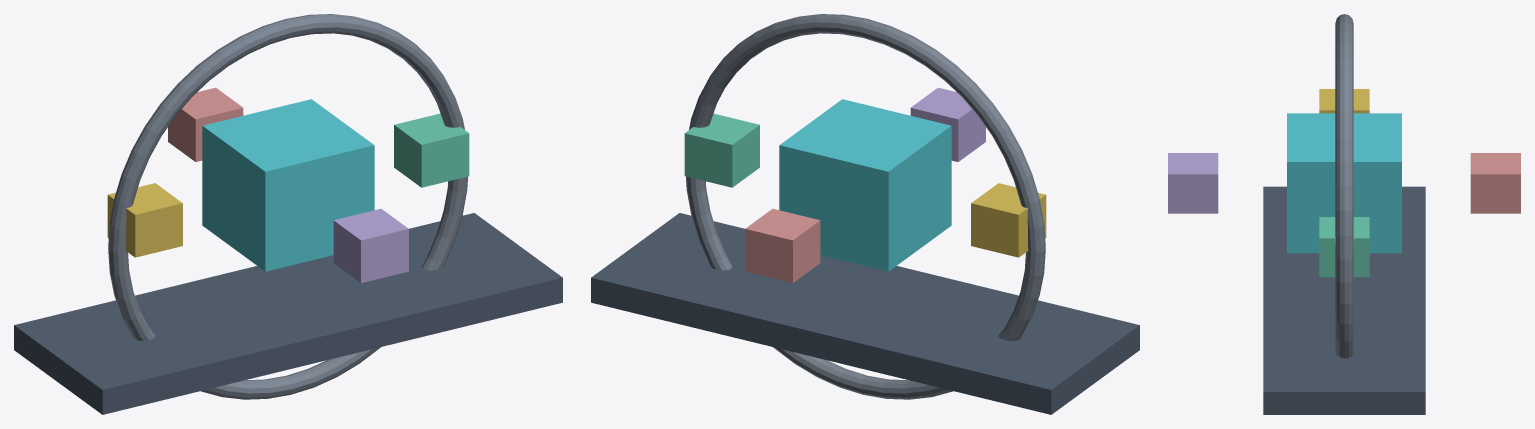
Rendered from BuclesIteracion.glb.
3 renders of one model, left to right at view 1: azimuth 30°, elevation 25°; view 2: azimuth 150°, elevation 25°; view 3: azimuth 270°, elevation 25°, orthographic. The views are drawn at different scales.
Visible parts, largest first — view 1: n0, n1, n6, n3, n2, n4, n5; view 2: n0, n1, n6, n5, n2, n4, n3; view 3: n0, n1, n6, n3, n5, n2, n4.
Boxes of the visible parts, <box> form: n0: <box>14,213,562,414</box>; n1: <box>202,99,374,271</box>; n6: <box>108,14,467,399</box>; n3: <box>333,208,408,283</box>; n2: <box>394,113,469,187</box>; n4: <box>107,183,182,257</box>; n5: <box>168,87,243,161</box>; n0: <box>591,213,1139,414</box>; n1: <box>779,99,951,271</box>; n6: <box>686,14,1045,399</box>; n5: <box>745,208,820,283</box>; n2: <box>684,113,759,187</box>; n4: <box>971,183,1046,257</box>; n3: <box>910,87,985,161</box>; n0: <box>1263,186,1425,414</box>; n1: <box>1287,113,1401,253</box>; n6: <box>1335,14,1353,358</box>; n3: <box>1168,153,1218,213</box>; n5: <box>1470,153,1520,213</box>; n2: <box>1319,217,1369,277</box>; n4: <box>1319,89,1369,113</box>.
Bounding box in the file's own units: 1.35 × 1.05 × 0.98.
